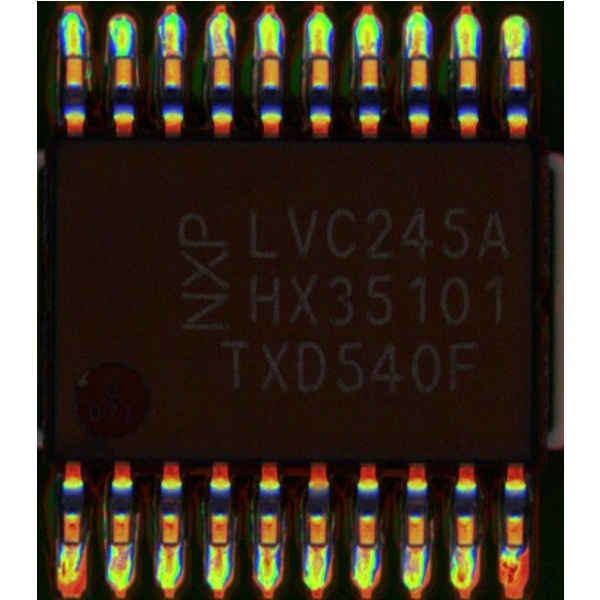Bad_podu: (262, 523, 276, 566), (312, 34, 325, 75), (115, 528, 128, 565), (363, 34, 376, 71), (411, 33, 424, 70), (264, 37, 277, 73), (360, 530, 374, 563), (312, 529, 324, 567), (163, 527, 176, 560), (457, 533, 470, 564), (64, 530, 77, 560), (462, 39, 473, 74), (69, 37, 81, 69), (166, 36, 177, 70), (212, 530, 224, 561), (410, 530, 422, 559), (216, 38, 227, 65)
